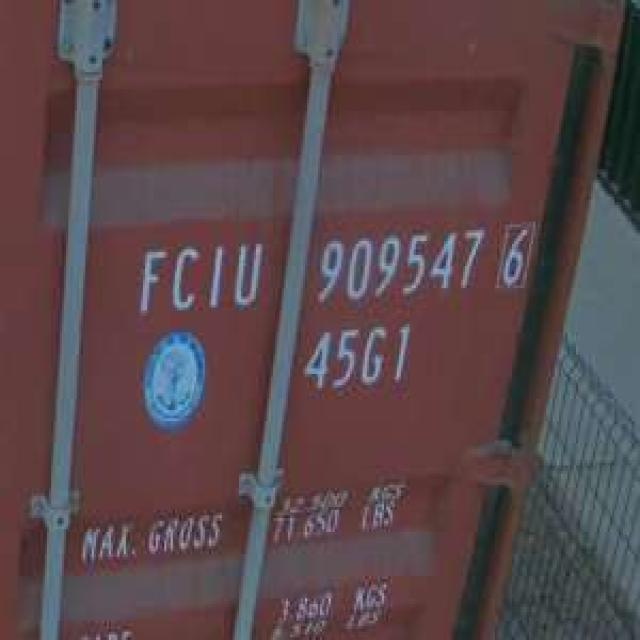dv: (496, 213, 536, 297)
owner: (129, 233, 269, 325)
serial: (308, 219, 487, 312)
size: (296, 317, 424, 405)
